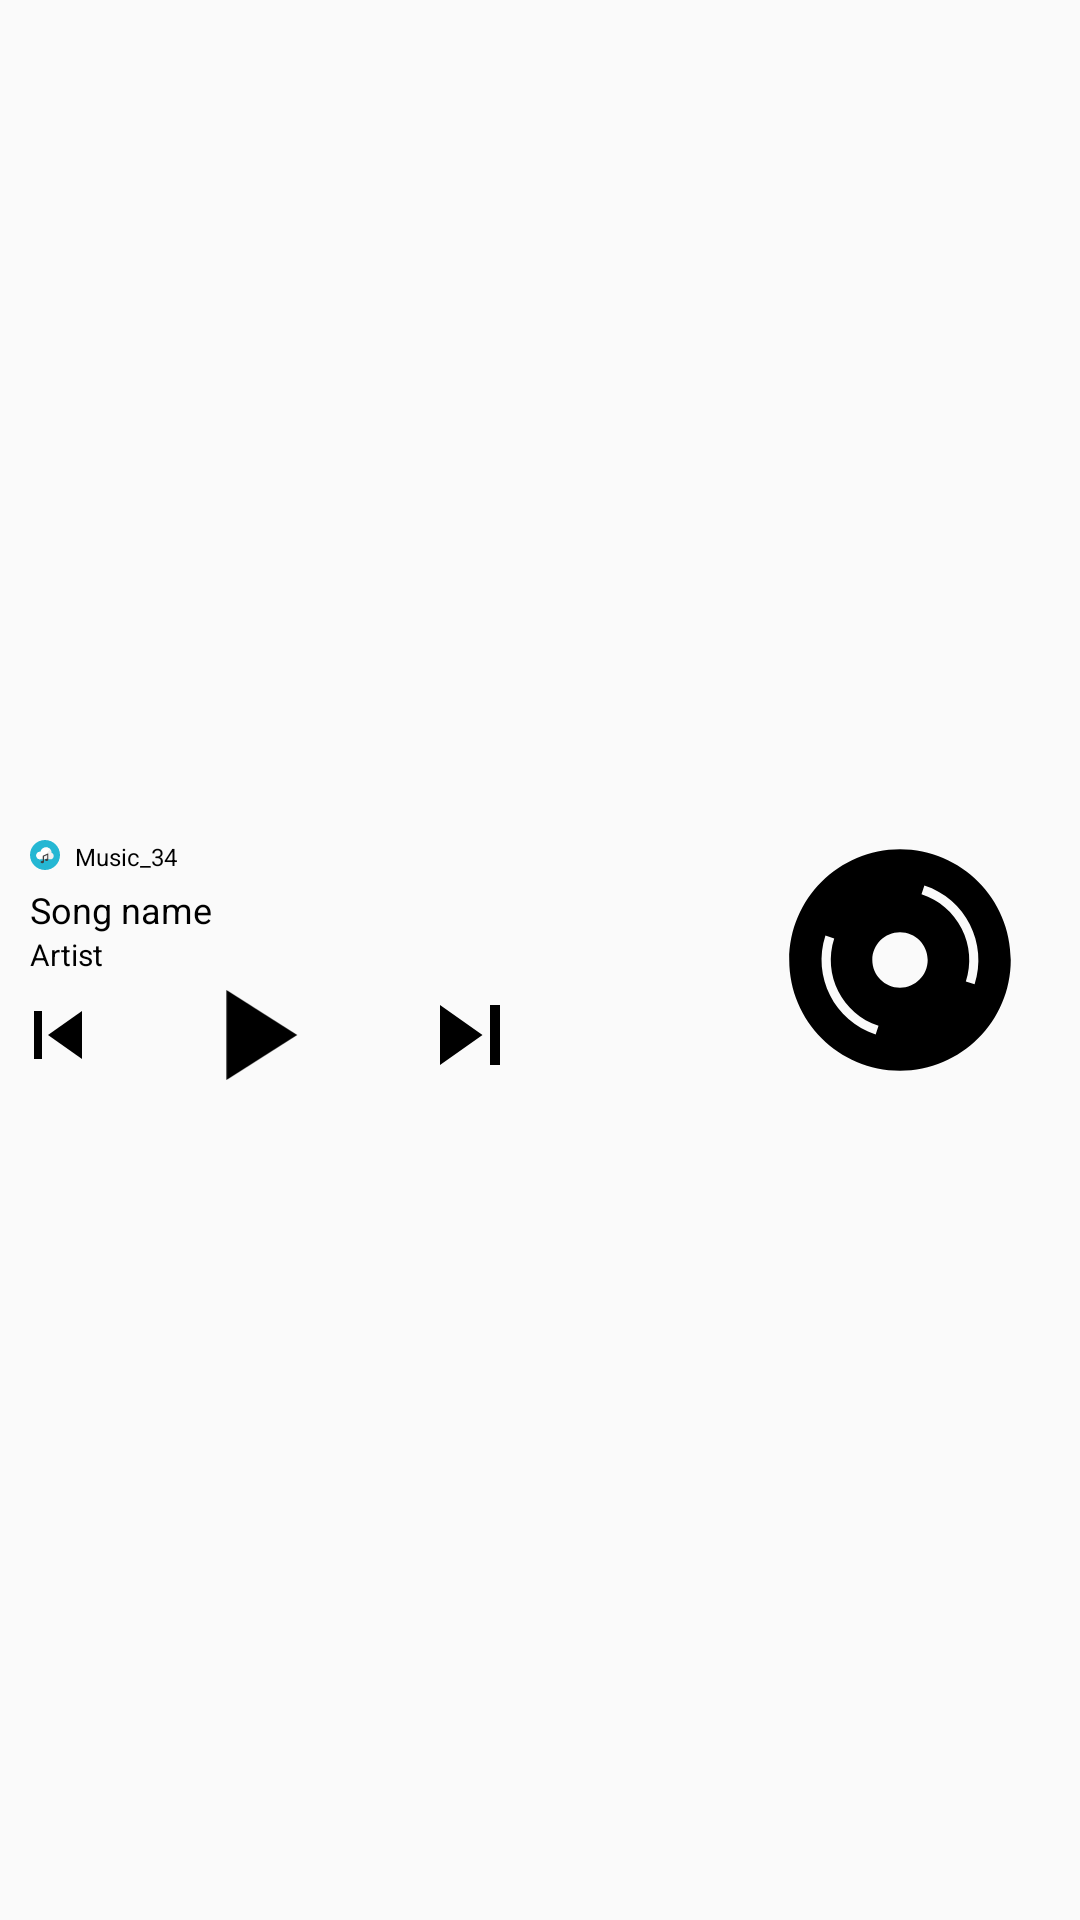

Icon bounding boxes for this 1080*1920 phone screenshot, format box(x1, y1, x2, y2):
next: box(440, 1005, 500, 1065)
play collapse: box(226, 990, 297, 1080)
previous: box(34, 1011, 82, 1059)
